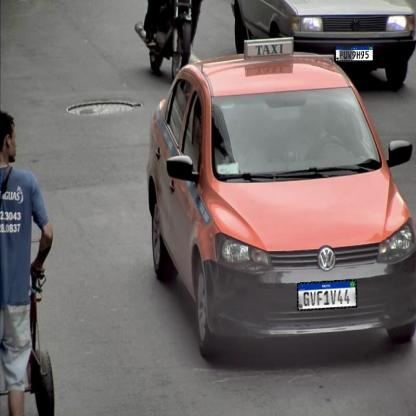PlacaM: (297, 280, 357, 310), (336, 46, 374, 61)
